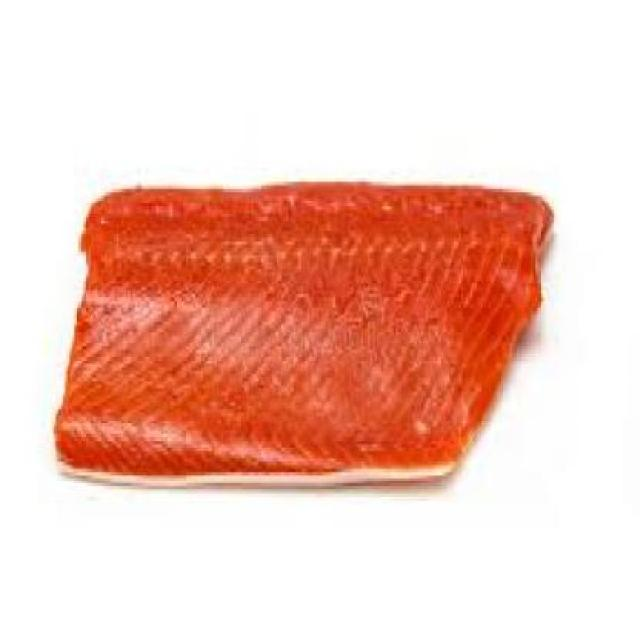salmon: (58, 151, 576, 494)
